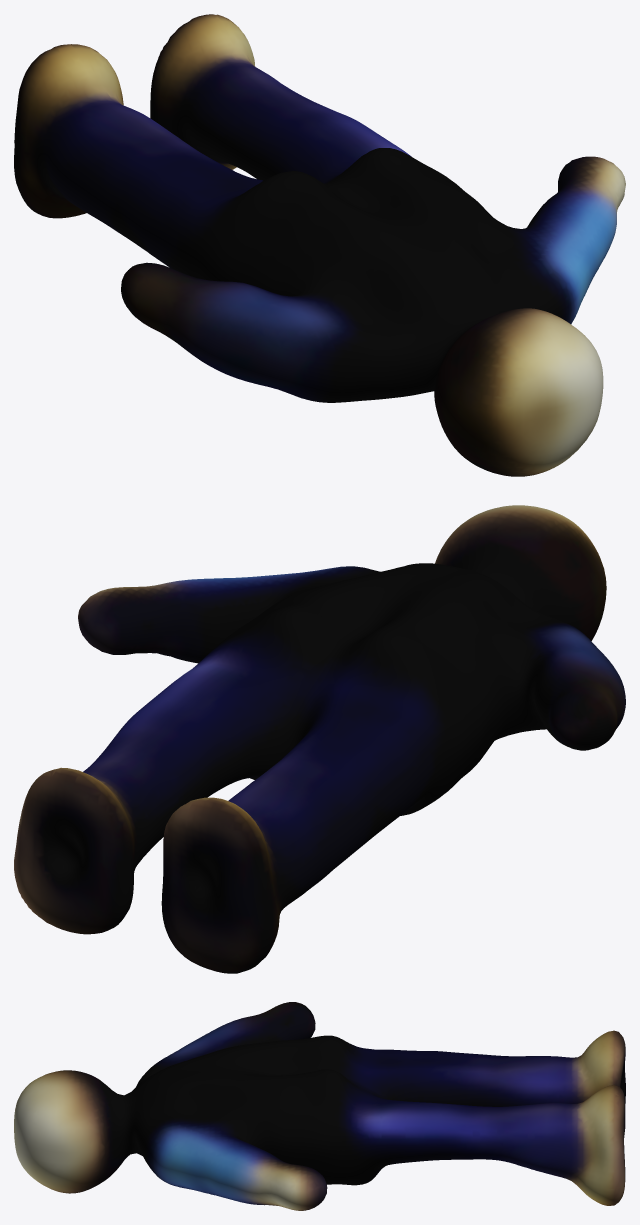
The model's file is grandfather.glb.
3 views of the same model, one above another, from view 1: azimuth 30°, elevation 25°; view 2: azimuth 150°, elevation 25°; view 3: azimuth 270°, elevation 25° (orthographic). The views are drawn at different scales.
Bounding box in the file's own units: 0.6901 × 0.2376 × 0.9997.
